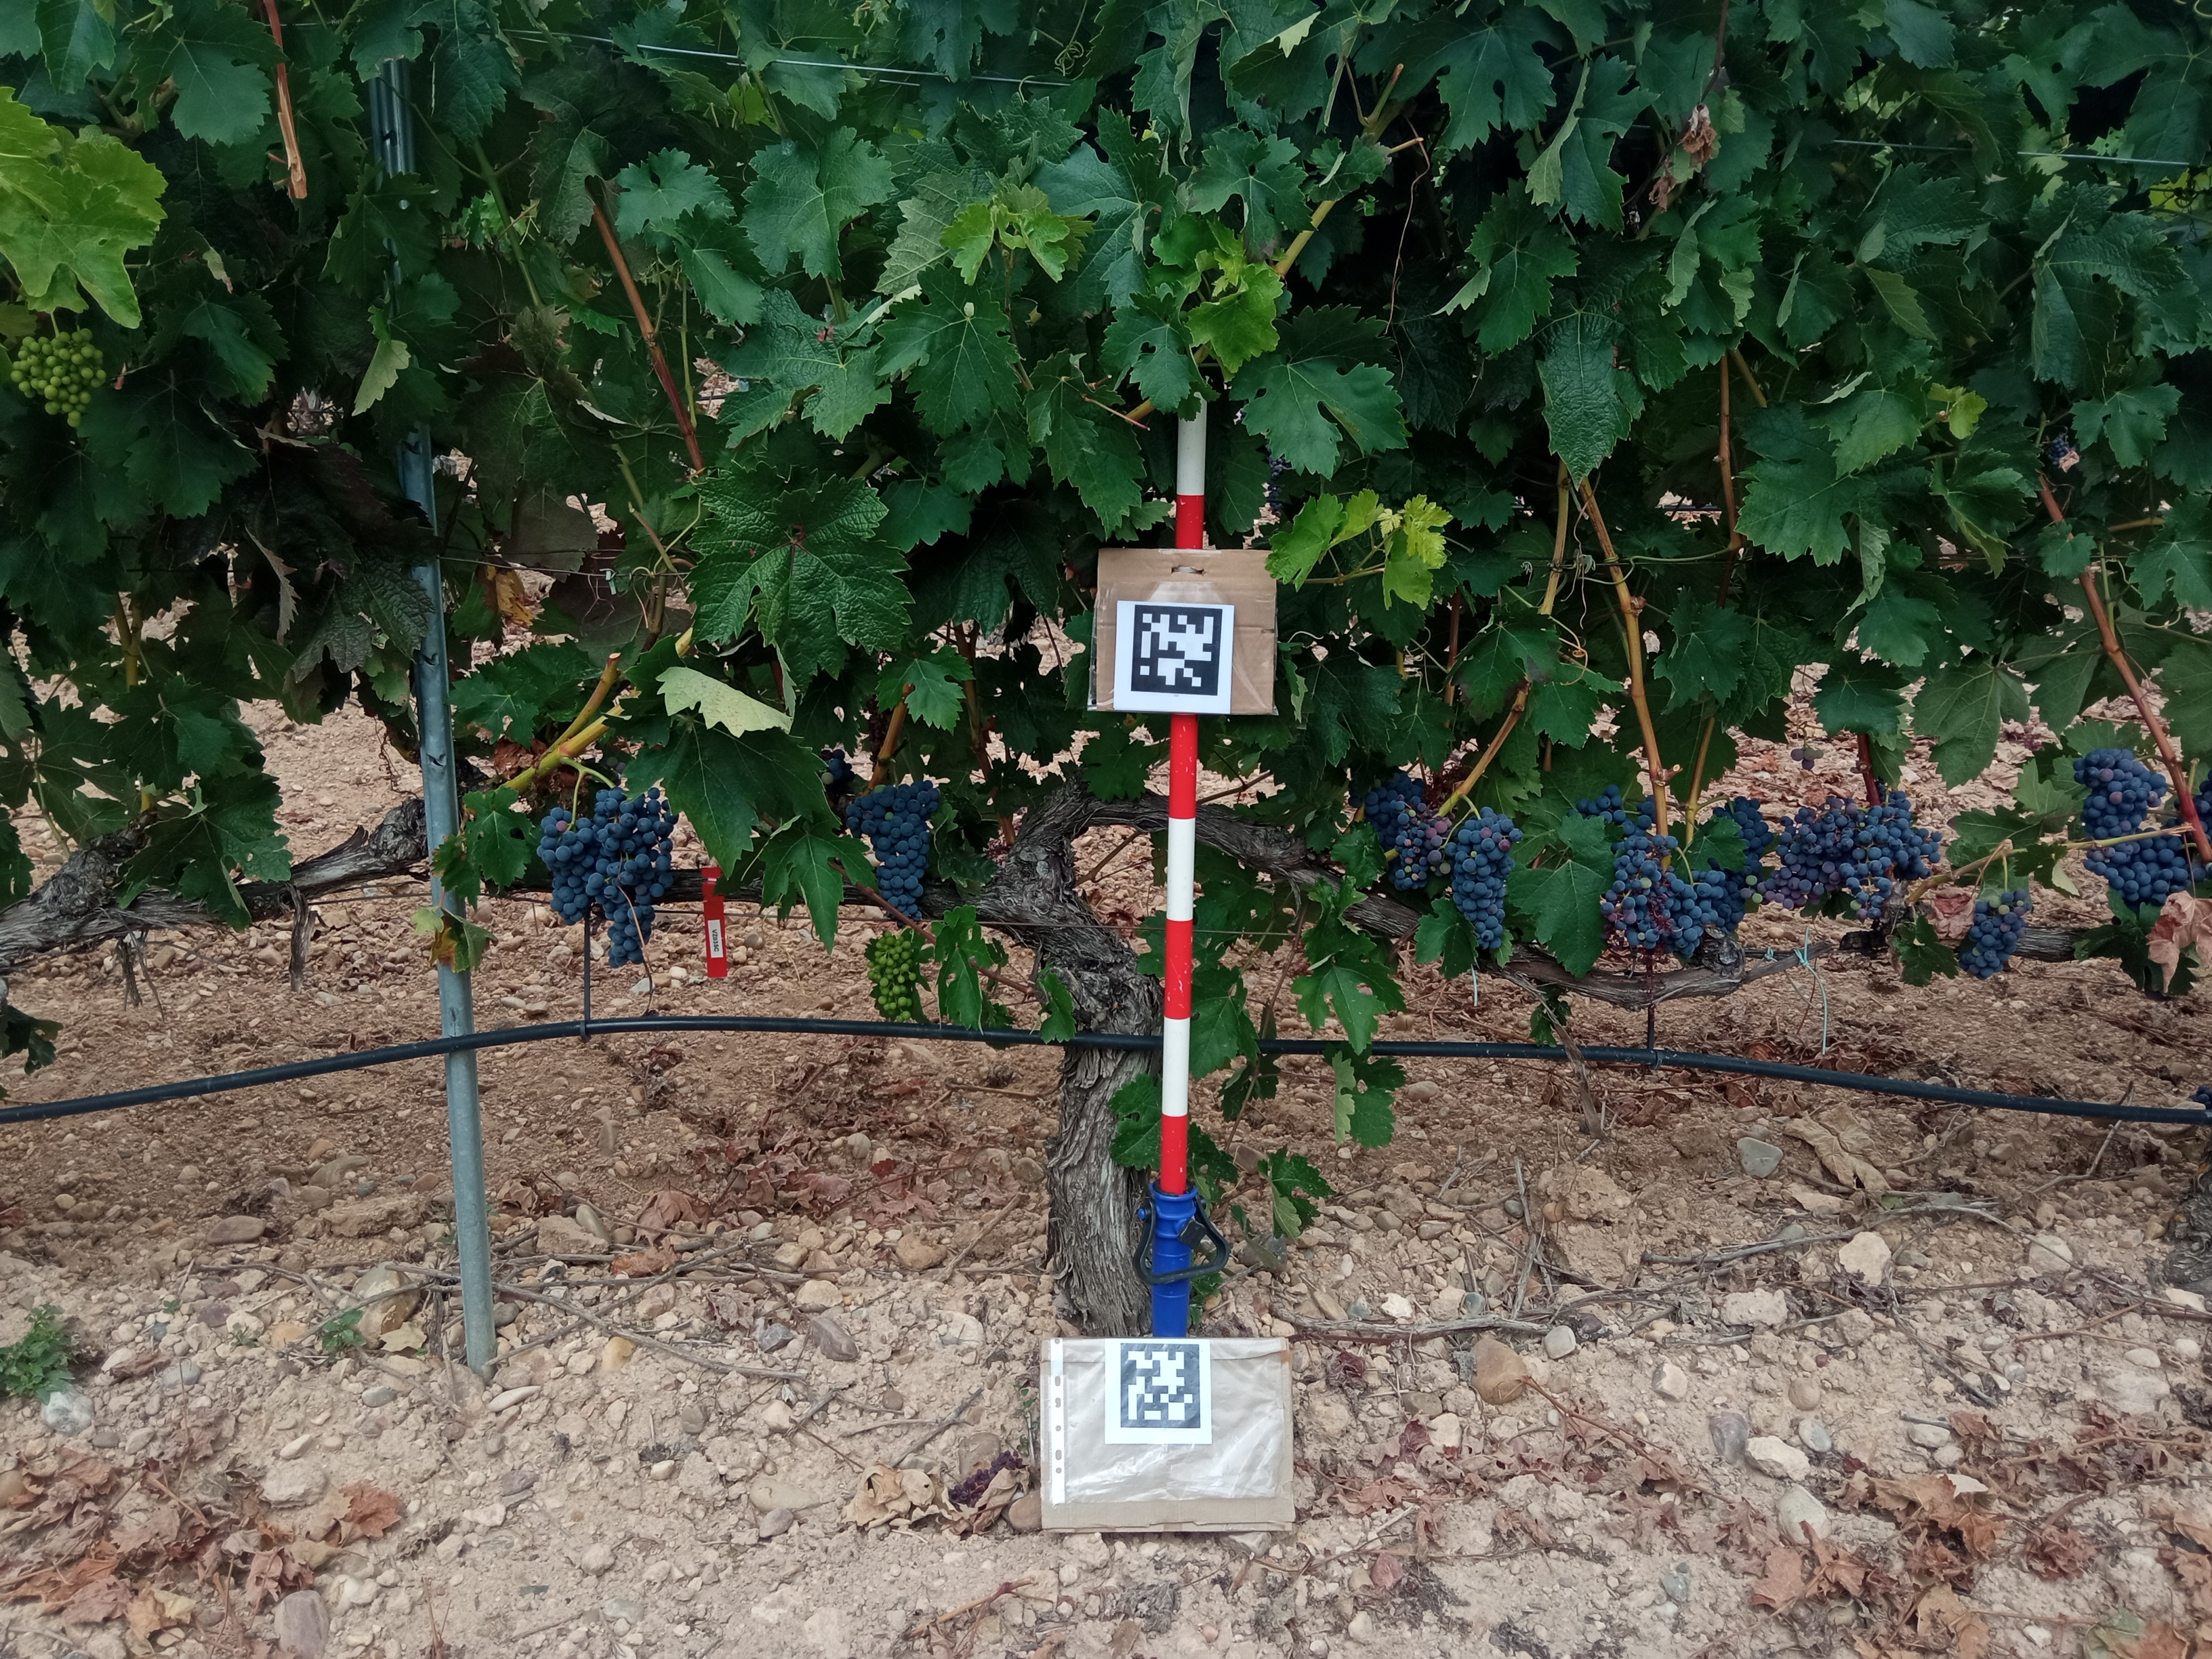grapes: (587, 788, 678, 967), (1740, 796, 1865, 908), (846, 781, 941, 927), (2074, 749, 2167, 863), (1451, 807, 1522, 948), (12, 328, 106, 425), (536, 809, 604, 925), (2083, 828, 2188, 903), (1601, 836, 1677, 929), (1841, 805, 1900, 918), (1959, 890, 2033, 979), (1878, 784, 1942, 878), (2160, 770, 2212, 882), (1710, 796, 1773, 889), (1350, 772, 1423, 850), (1568, 784, 1656, 836), (1625, 873, 1684, 948), (867, 931, 916, 1021), (1663, 885, 1717, 958), (1390, 795, 1426, 890), (1688, 870, 1743, 931), (1426, 817, 1458, 875), (820, 749, 855, 784), (1791, 749, 1824, 769)
